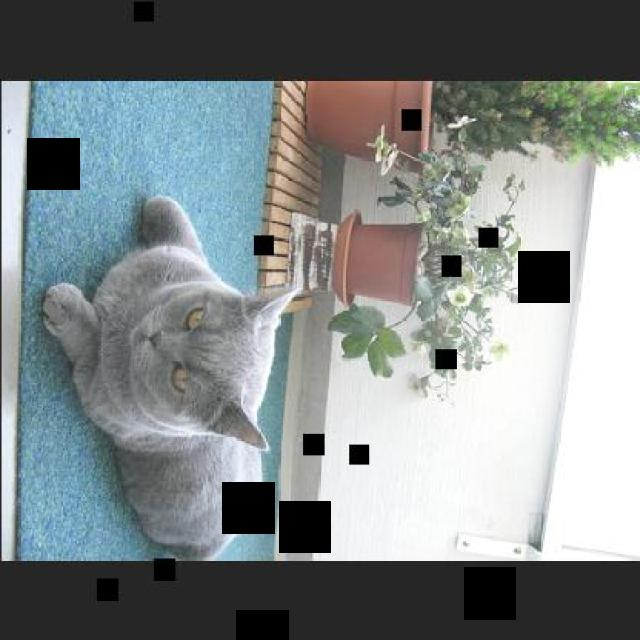unauthorized: (40, 194, 305, 558)
